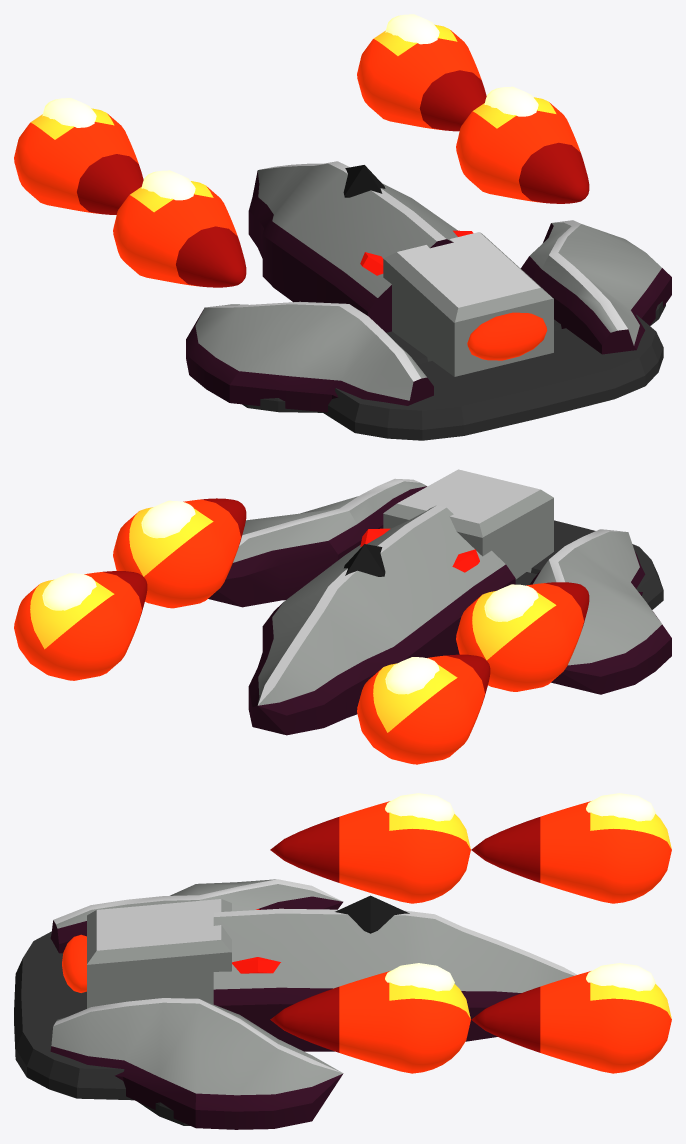
The model's file is pu_dual_vulcan.glb.
The picture shows the model from 3 angles, top to bottom: view 1: azimuth 30°, elevation 25°; view 2: azimuth 150°, elevation 25°; view 3: azimuth 270°, elevation 25°; orthographic projection.
Visible parts, largest first — view 1: blade_left, spire, base_rear, block, blade_right, spark2, spark3, spark1, spark0, exhaust, spark_core2, spark_core0 (+4 smaller); view 2: spire, blade_left, blade_right, spark1, spark0, block, spark2, spark3, base_rear, spark_core1, spark_core2, spark_core0 (+2 smaller); view 3: blade_right, spire, block, spark0, spark2, spark3, spark1, base_rear, blade_left, spark_core1, spark_core2, spark_core3 (+4 smaller).
Part boxes in pixels (x1,y1,x2,y2): blade_left: [186, 301, 433, 412]; spire: [248, 161, 457, 332]; base_rear: [323, 314, 663, 440]; block: [383, 232, 553, 376]; blade_right: [521, 220, 671, 354]; spark2: [113, 181, 246, 287]; spark3: [456, 97, 589, 203]; spark1: [357, 24, 486, 131]; spark0: [14, 108, 143, 214]; exhaust: [467, 312, 547, 360]; spark_core2: [141, 170, 195, 200]; spark_core0: [42, 98, 96, 127]; spire: [248, 505, 515, 735]; blade_left: [529, 529, 671, 694]; blade_right: [208, 478, 427, 607]; spark1: [14, 571, 147, 680]; spark0: [357, 654, 490, 764]; block: [383, 469, 553, 579]; spark2: [456, 582, 589, 691]; spark3: [113, 498, 246, 608]; base_rear: [531, 520, 663, 609]; spark_core1: [42, 573, 96, 610]; spark_core2: [484, 584, 538, 621]; spark_core0: [385, 657, 439, 694]; blade_right: [50, 998, 343, 1129]; spire: [213, 908, 577, 1051]; block: [87, 899, 231, 1008]; spark0: [471, 801, 671, 903]; spark2: [270, 801, 470, 903]; spark3: [270, 971, 470, 1073]; spark1: [471, 971, 671, 1073]; base_rear: [14, 931, 133, 1100]; blade_left: [50, 879, 343, 953]; spark_core1: [586, 963, 655, 991]; spark_core2: [385, 793, 454, 821]; spark_core3: [385, 963, 454, 991].
Bounding box in the file's own units: 13.1 × 3.87 × 16.37.
